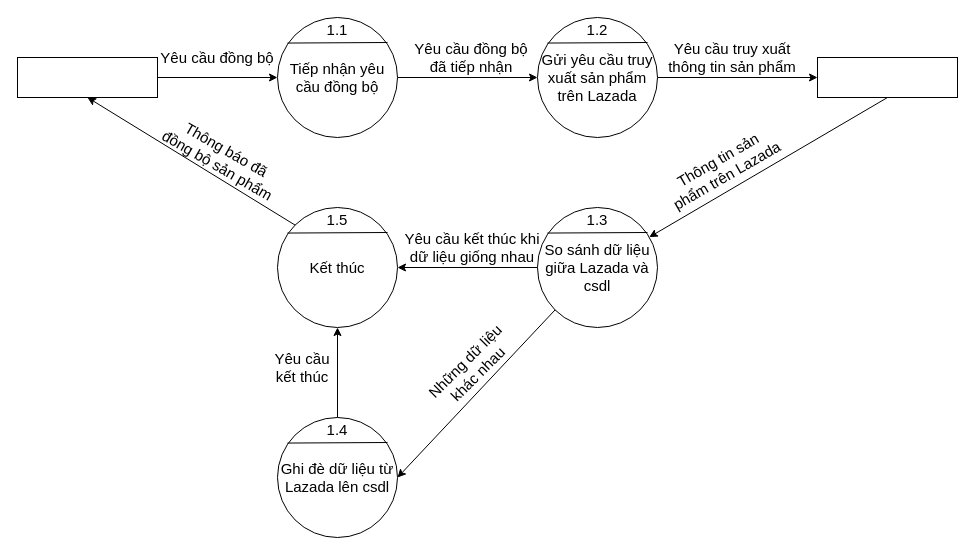
Some shapes in this 975 by 555 pixel diagram are drawn without their labels. The shapes that lost their labels are listed below. From the top down, each one's centre as x and y in pixels, then its label:
(x=87, y=77): CHỦ GIAN HÀNG
(x=887, y=77): Lazada Open Platform
